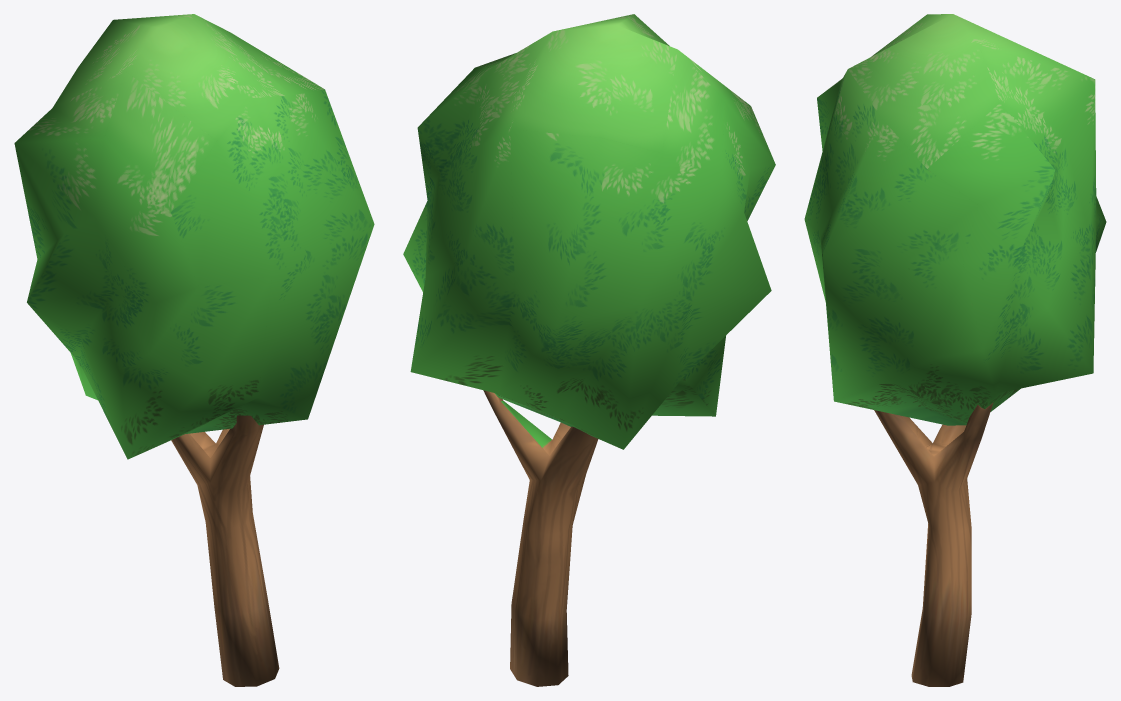
File: tree 5.fbx
The picture shows the model from 3 angles, left to right: view 1: azimuth 30°, elevation 25°; view 2: azimuth 150°, elevation 25°; view 3: azimuth 270°, elevation 25°; orthographic projection. The views are drawn at different scales.
Parts seen in each view (by area): view 1: Cylinder.008; view 2: Cylinder.008; view 3: Cylinder.008.
Boxes of the visible parts, x1,y1,x2,y2 form: Cylinder.008: [14, 14, 374, 686]; Cylinder.008: [403, 14, 775, 686]; Cylinder.008: [804, 14, 1106, 686].
Bounding box in the file's own units: 289 × 547 × 238.
Materials: 1 (1 with a texture image).
